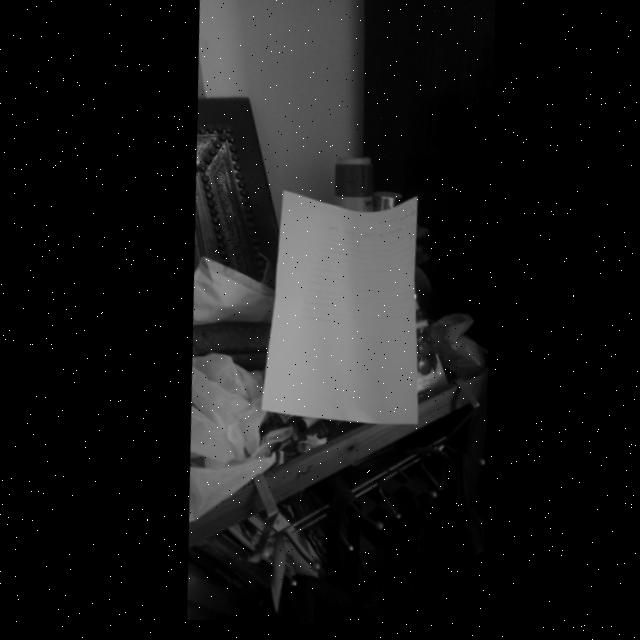document: (262, 191, 418, 424)
